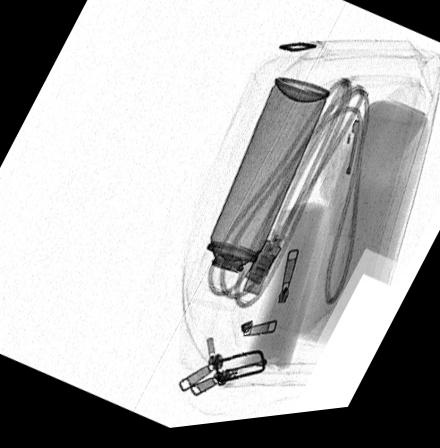Sprayer: (183, 83, 328, 315)
